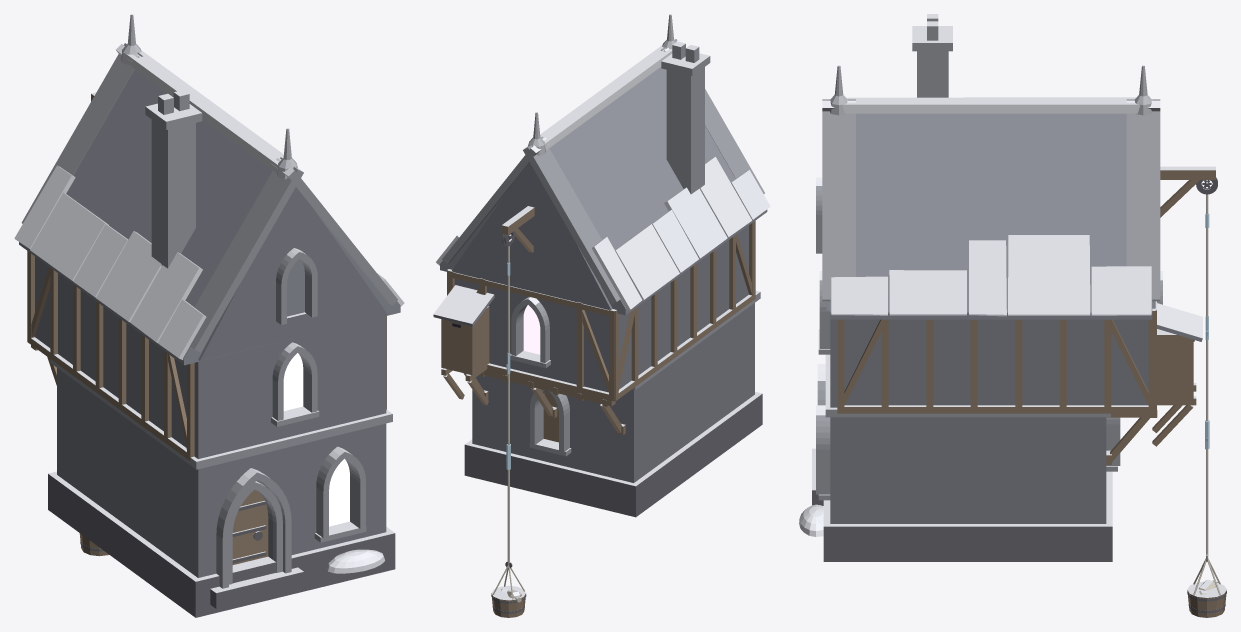
The model's file is AR_Casa_Debrucada_B.fbx.
3 renders of one model, left to right at view 1: azimuth 30°, elevation 25°; view 2: azimuth 150°, elevation 25°; view 3: azimuth 270°, elevation 25°, orthographic. The views are drawn at different scales.
Parts seen in each view (by area): view 1: AR_Casa_Debrucada_B; view 2: AR_Casa_Debrucada_B; view 3: AR_Casa_Debrucada_B.
Boxes of the visible parts, x1,y1,x2,y2 form: AR_Casa_Debrucada_B: (14,14,404,617); AR_Casa_Debrucada_B: (433,14,770,617); AR_Casa_Debrucada_B: (799,14,1226,617).
Bounding box in the file's own units: 7.25 × 17.43 × 12.09.
